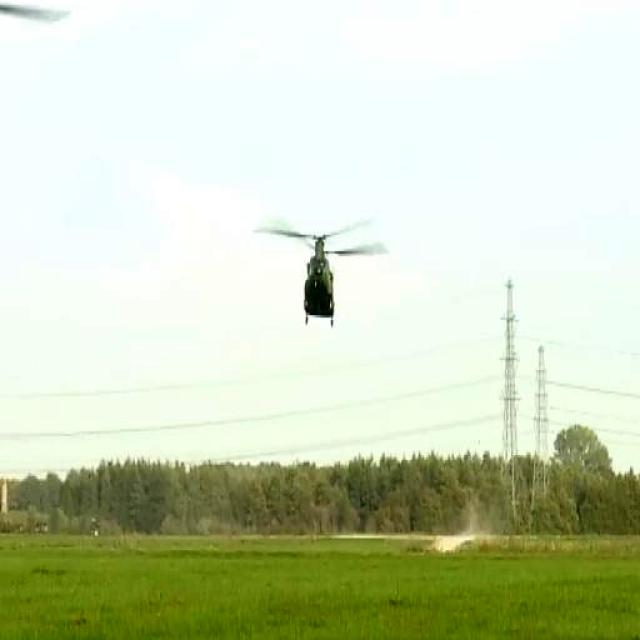drone: (278, 202, 364, 322)
